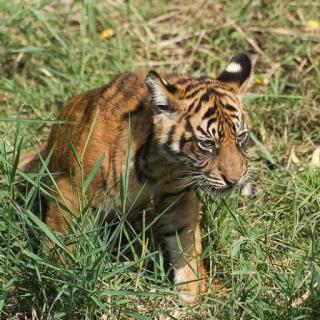Tiger: (30, 47, 282, 295)
